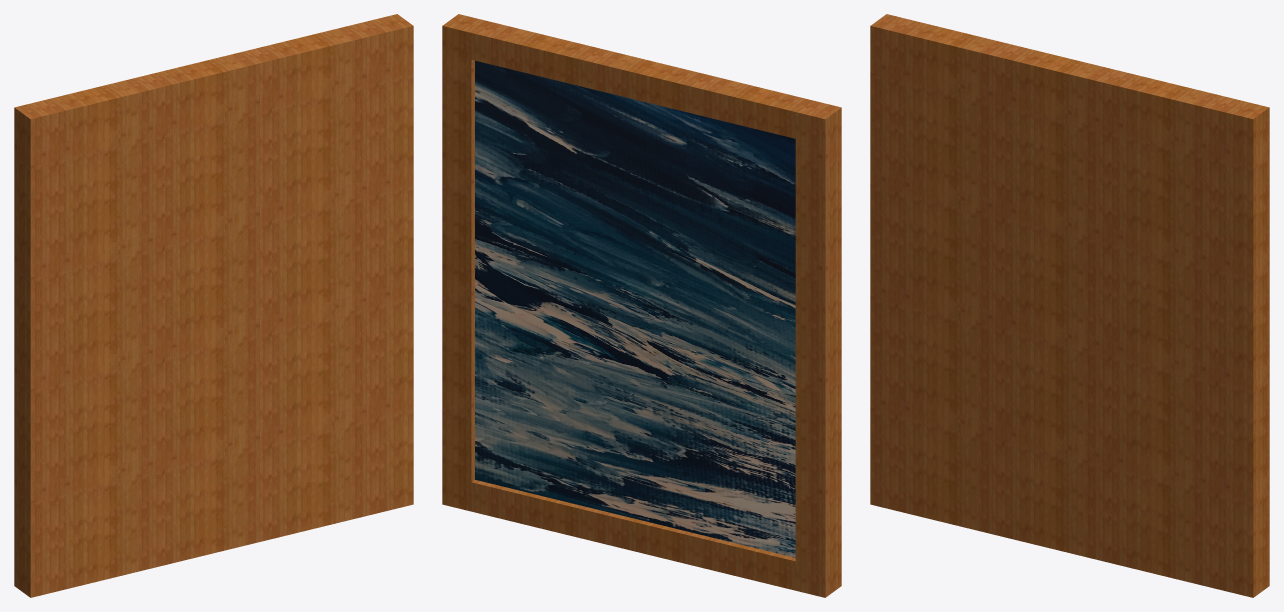
Rendered from figure10_vgf.gltf.
The picture shows the model from 3 angles, left to right: view 1: azimuth 30°, elevation 25°; view 2: azimuth 150°, elevation 25°; view 3: azimuth 330°, elevation 25°; orthographic projection.
Parts seen in each view (by area): view 1: figure; view 2: figure; view 3: figure.
Boxes of the visible parts, left/top/right/bottom form: figure: left=14, top=14, right=413, bottom=597; figure: left=442, top=14, right=841, bottom=597; figure: left=870, top=14, right=1269, bottom=597.
Size of the model in its own units: 2.19 by 2.61 by 0.1603.
Materials: 2 (2 with a texture image).
